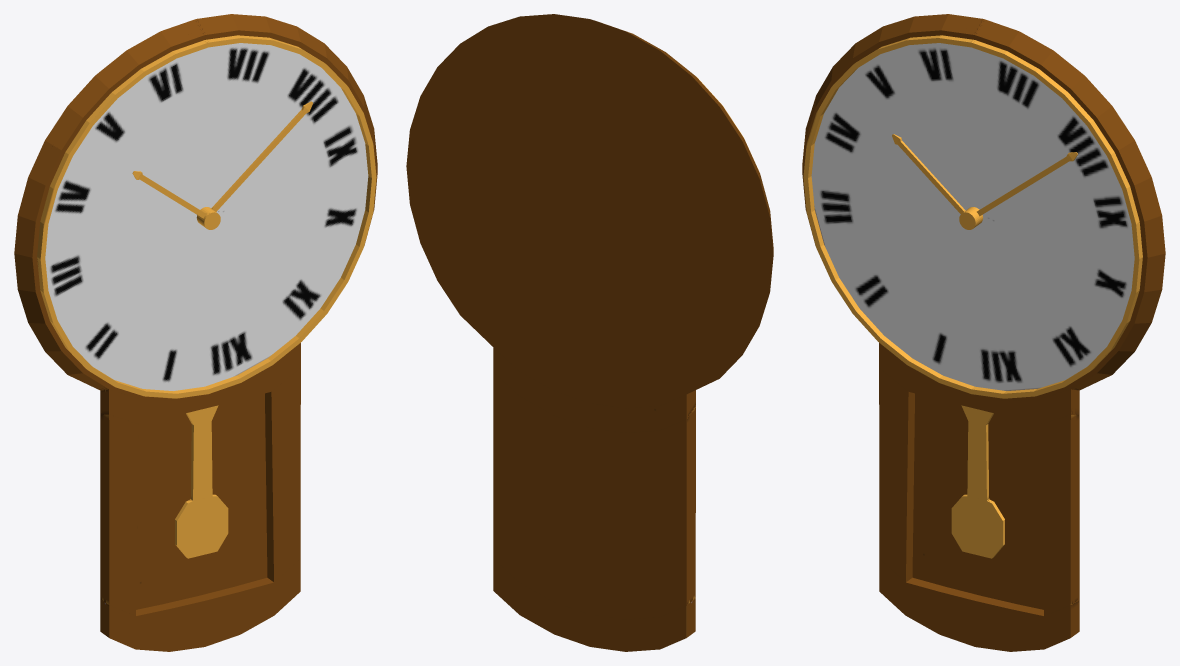
Rendered from Clock_Static.fbx.
3 views of the same model, side by side, from view 1: azimuth 30°, elevation 25°; view 2: azimuth 150°, elevation 25°; view 3: azimuth 330°, elevation 25° (orthographic).
Parts seen in each view (by area): view 1: Cylinder; view 2: Cylinder; view 3: Cylinder.
Boxes of the visible parts, bbox=[...] form: Cylinder: bbox=[14, 14, 377, 651]; Cylinder: bbox=[406, 14, 773, 651]; Cylinder: bbox=[802, 14, 1165, 651].
Size of the model in its own units: 200 by 327 by 15.81.
